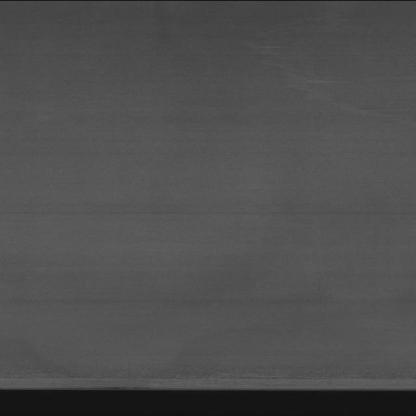silk_spot: (241, 24, 383, 127)
